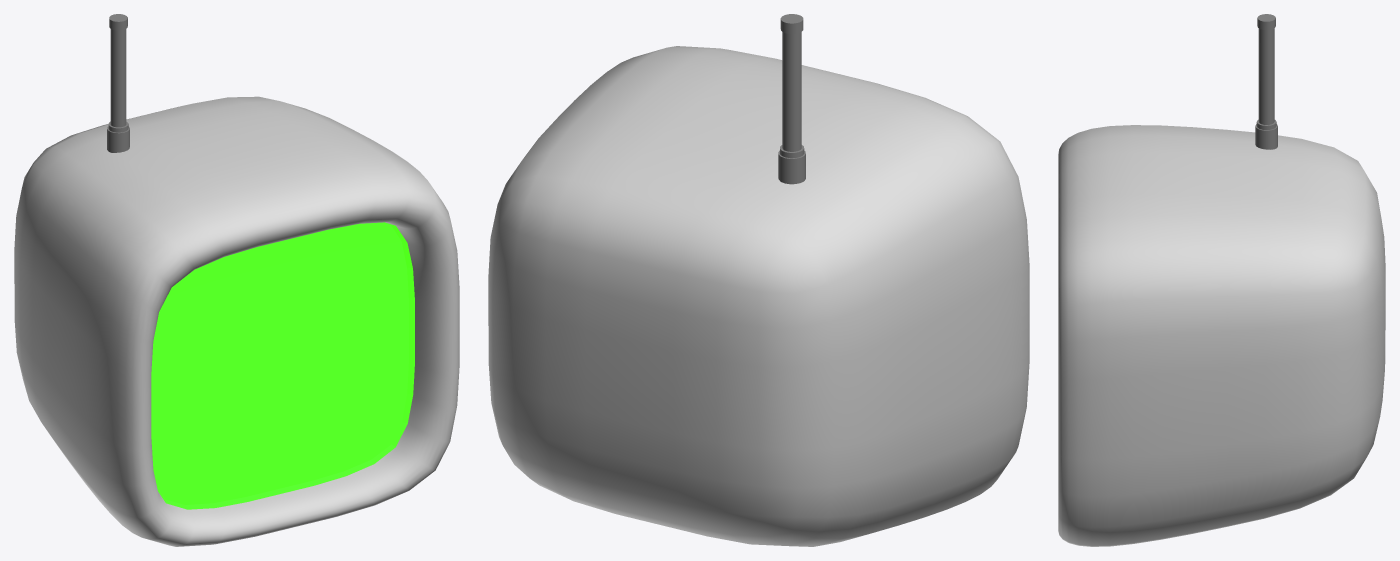
The model's file is RobotHead.glb.
3 views of the same model, side by side, from view 1: azimuth 30°, elevation 25°; view 2: azimuth 150°, elevation 25°; view 3: azimuth 270°, elevation 25° (orthographic). The views are drawn at different scales.
Parts seen in each view (by area): view 1: robot_rig:Head_robot_rig:M_White_0, robot_rig:Head_robot_rig:M_Screen_0, robot_rig:Antenna_robot_rig:M_Chrome_0; view 2: robot_rig:Head_robot_rig:M_White_0, robot_rig:Antenna_robot_rig:M_Chrome_0; view 3: robot_rig:Head_robot_rig:M_White_0, robot_rig:Antenna_robot_rig:M_Chrome_0.
Boxes of the visible parts, <box> form: robot_rig:Head_robot_rig:M_White_0: <box>14,96,459,546</box>; robot_rig:Head_robot_rig:M_Screen_0: <box>151,222,414,509</box>; robot_rig:Antenna_robot_rig:M_Chrome_0: <box>107,14,129,152</box>; robot_rig:Head_robot_rig:M_White_0: <box>488,46,1029,546</box>; robot_rig:Antenna_robot_rig:M_Chrome_0: <box>778,14,805,184</box>; robot_rig:Head_robot_rig:M_White_0: <box>1058,125,1385,546</box>; robot_rig:Antenna_robot_rig:M_Chrome_0: <box>1255,14,1277,149</box>.
Bounding box in the file's own units: 58.7 × 73.81 × 49.16.
